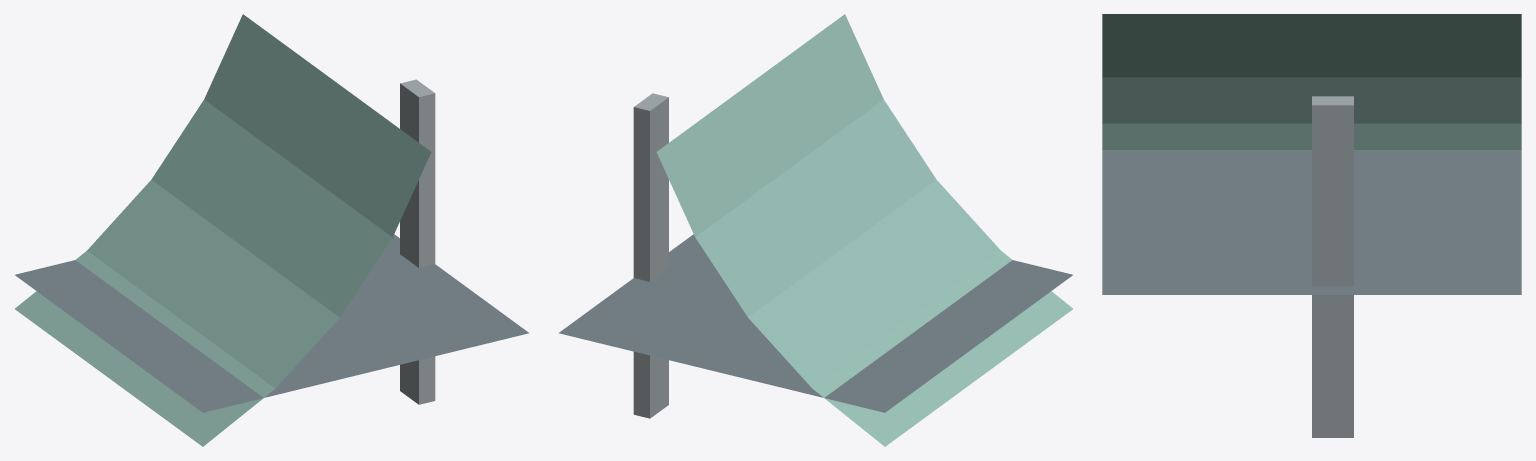
File: cell_73.obj
The picture shows the model from 3 angles, left to right: view 1: azimuth 30°, elevation 25°; view 2: azimuth 150°, elevation 25°; view 3: azimuth 270°, elevation 25°; orthographic projection. The views are drawn at different scales.
Bounding box in the file's own units: 1 × 1 × 1.
